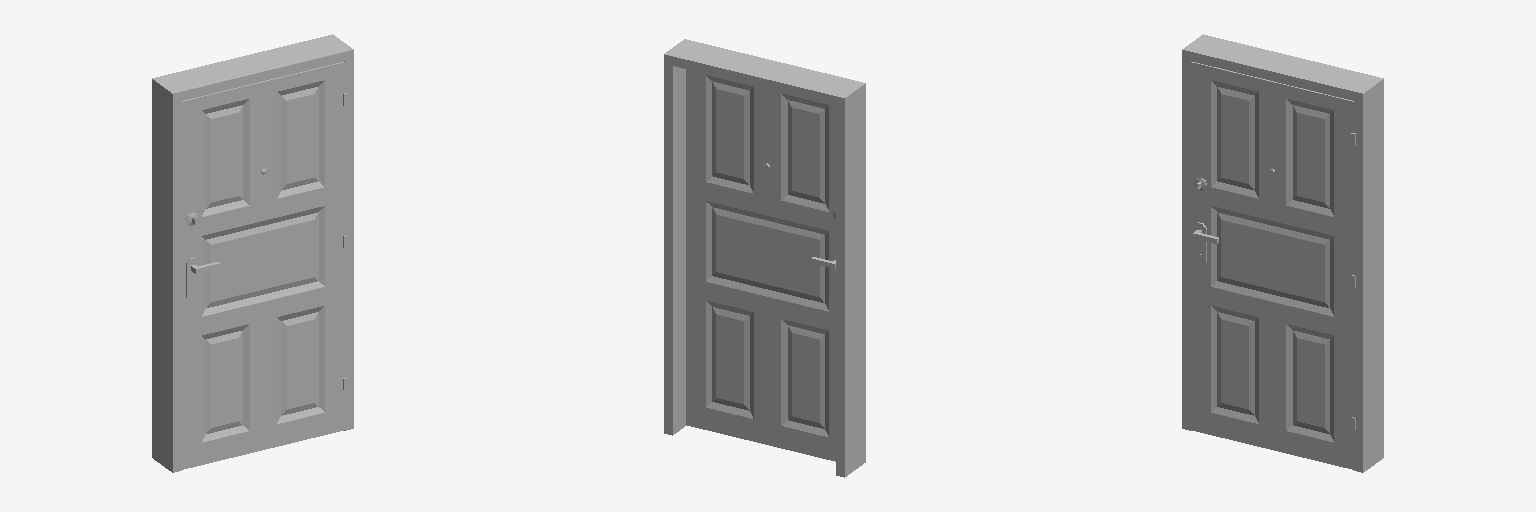
The model's file is pcity_nodes_doors_front_1.obj.
3 renders of one model, left to right at view 1: azimuth 30°, elevation 25°; view 2: azimuth 150°, elevation 25°; view 3: azimuth 330°, elevation 25°, orthographic.
Visible parts, largest first — view 1: Doors_wood, Frame; view 2: Doors_wood, Frame; view 3: Doors_wood, Frame.
Boxes of the visible parts, x1=… form: Doors_wood: x1=182, y1=62, x2=344, y2=469; Frame: x1=152, y1=34, x2=353, y2=472; Doors_wood: x1=686, y1=69, x2=835, y2=461; Frame: x1=664, y1=39, x2=865, y2=477; Doors_wood: x1=1191, y1=62, x2=1353, y2=469; Frame: x1=1182, y1=34, x2=1383, y2=472.
Size of the model in its own units: 2 by 4 by 0.5201.